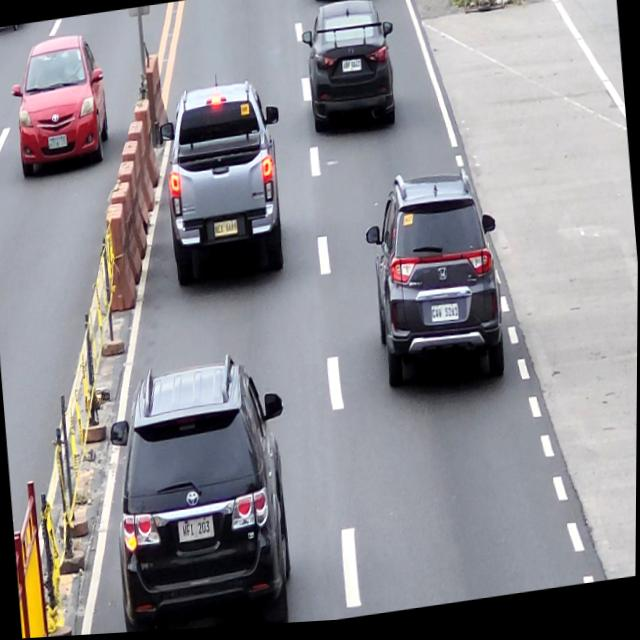Car: (99, 354, 303, 635), (361, 165, 511, 402), (156, 81, 291, 286), (300, 0, 400, 146)
License-Plate: (176, 519, 216, 546), (428, 307, 460, 330), (212, 221, 238, 240), (341, 62, 361, 78)
